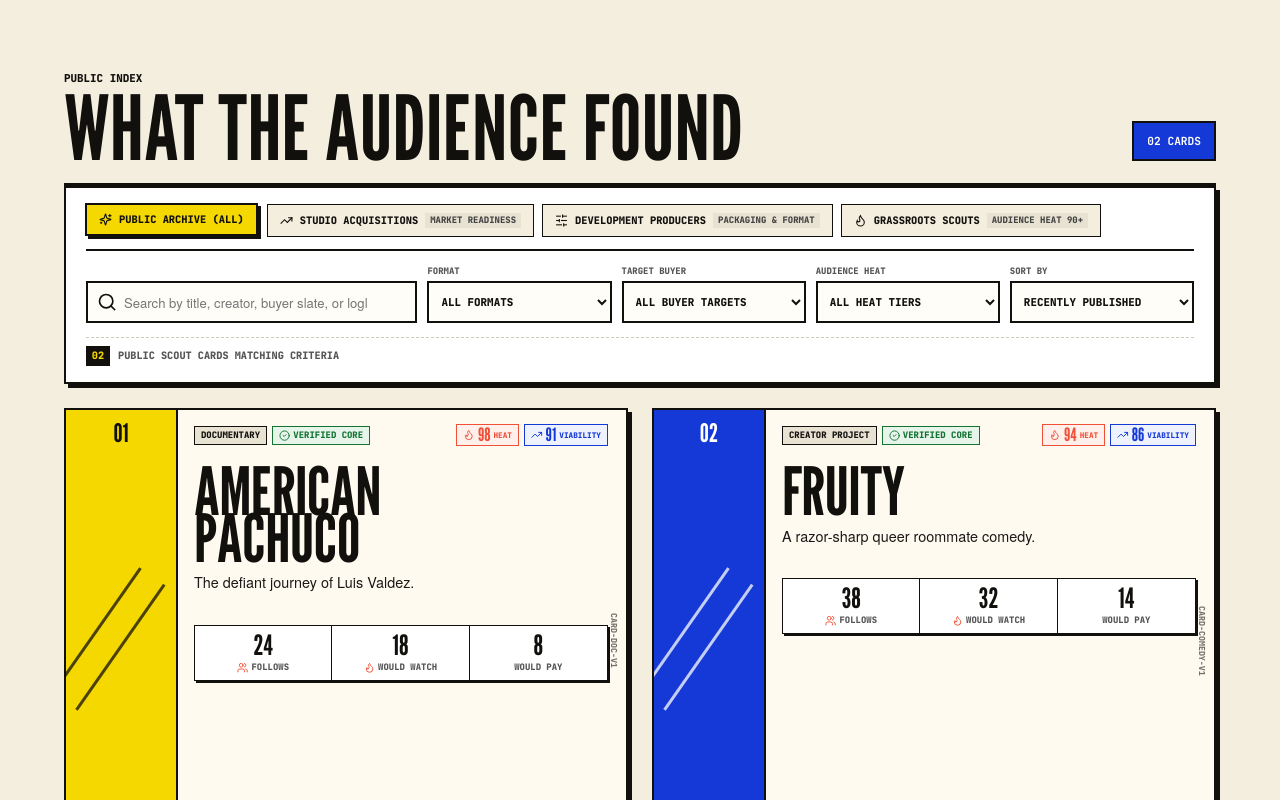
Test: ScoutingWallClient Component › filters scout cards by target buyer dropdown
The image size is (1280, 800).
Select "PBS / Public Media" in the dropdown labelled "Target Buyer": (714, 302) [622,281,806,323]
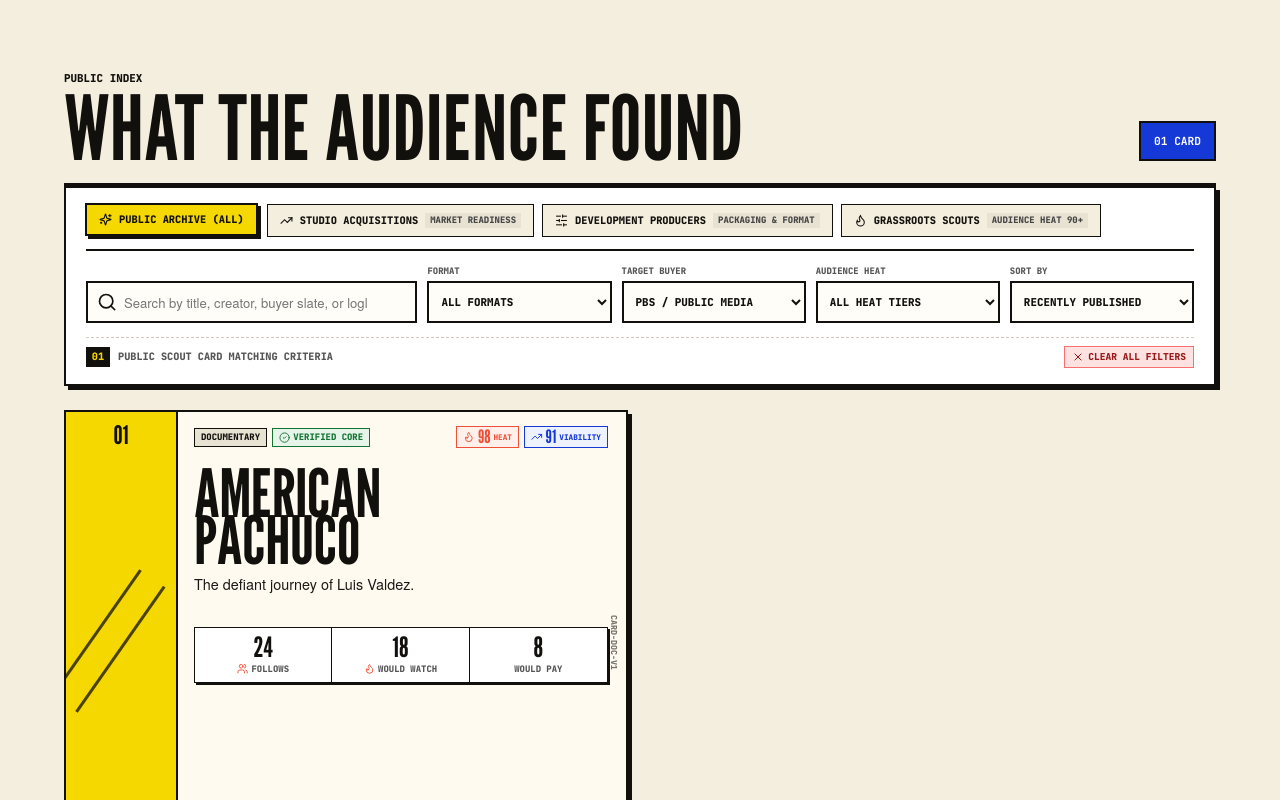
Expected: the link "American Pachuco" is shown, [194,453,381,579]
Expected: the link "Fruity" is gone
